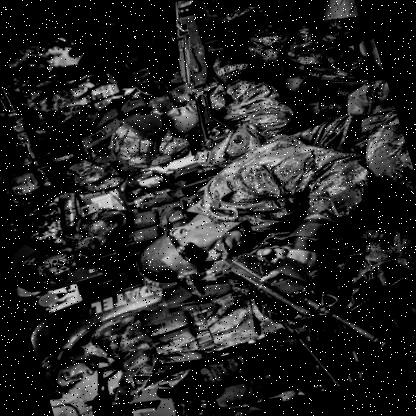rifle: (219, 201, 416, 380), (140, 0, 302, 152), (229, 259, 361, 408), (0, 39, 102, 202), (57, 349, 172, 416), (45, 234, 124, 279)
